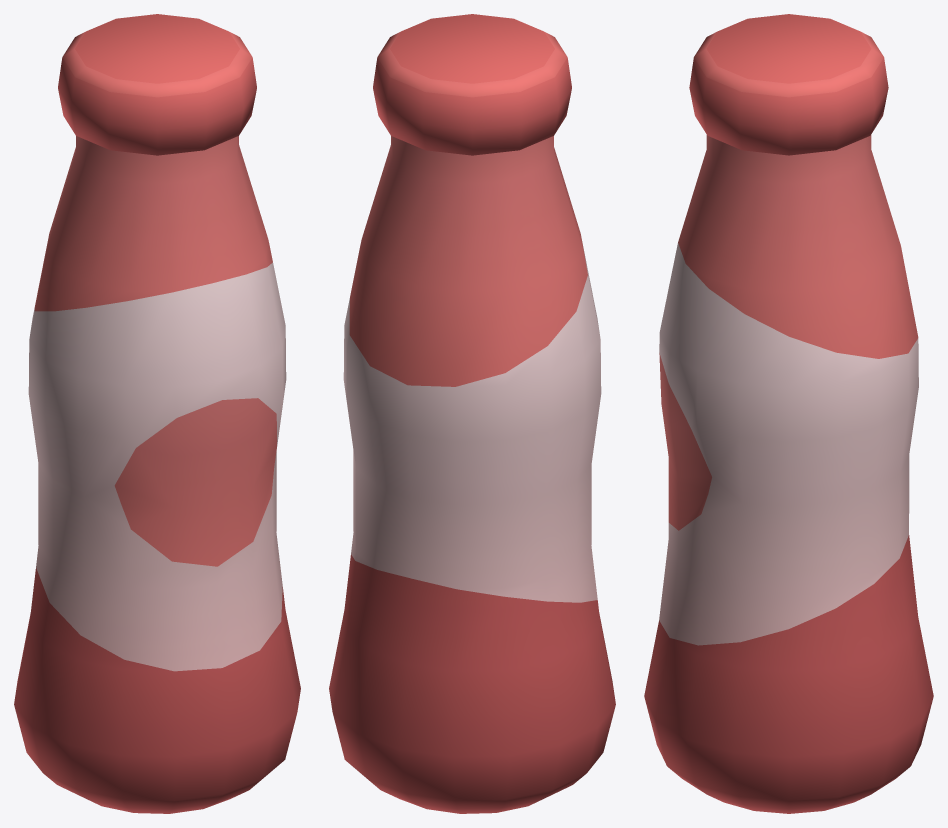
Rendered from yogurt_003.fbx.
The picture shows the model from 3 angles, left to right: view 1: azimuth 30°, elevation 25°; view 2: azimuth 150°, elevation 25°; view 3: azimuth 270°, elevation 25°; orthographic projection.
Parts seen in each view (by area): view 1: yogurt_003; view 2: yogurt_003; view 3: yogurt_003.
Part boxes in pixels (box(x1,y1,x2,y2)): yogurt_003: box(14, 14, 300, 813); yogurt_003: box(329, 14, 615, 813); yogurt_003: box(644, 14, 933, 813).
Size of the model in its own units: 5.43 by 5.43 by 15.03.
